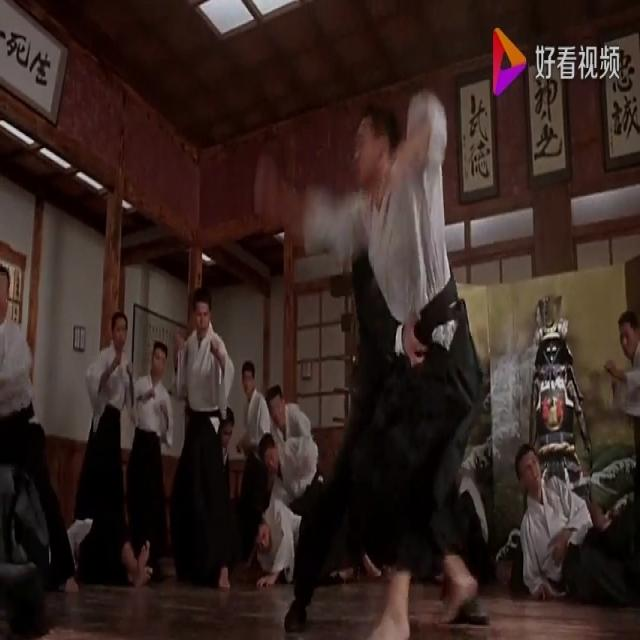fight: (248, 83, 487, 640)
non-fight: (169, 280, 238, 589)
